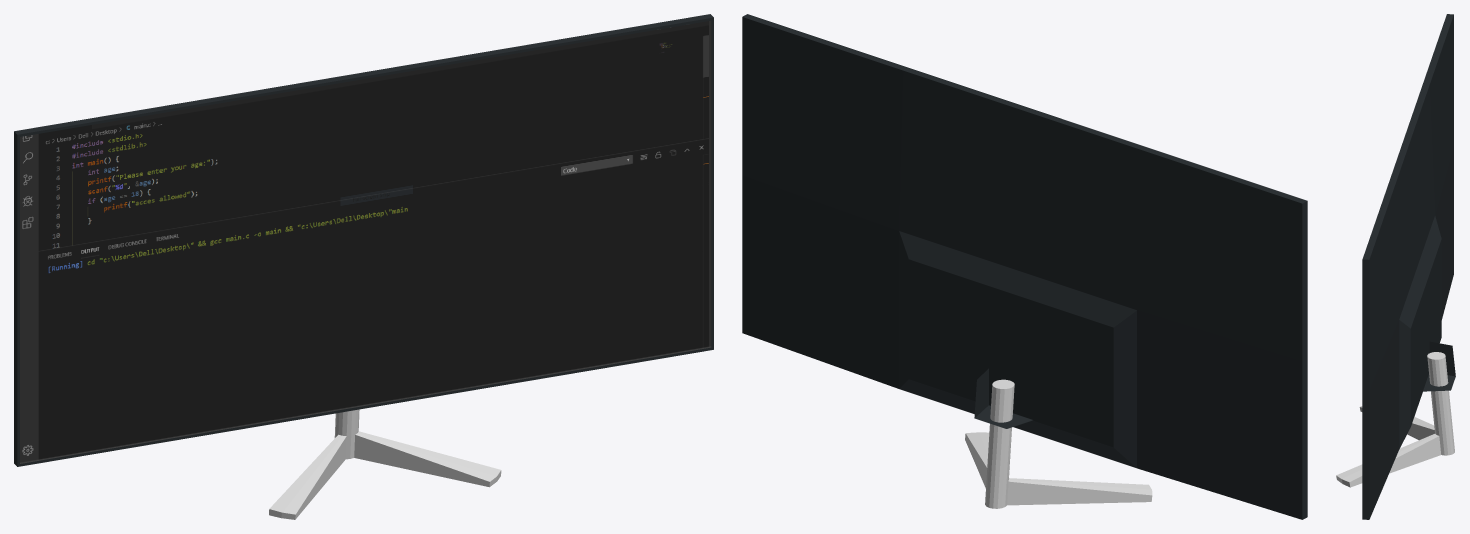
File: ConCom.glb
3 views of the same model, side by side, from view 1: azimuth 30°, elevation 25°; view 2: azimuth 150°, elevation 25°; view 3: azimuth 270°, elevation 25° (orthographic). The views are drawn at different scales.
Parts seen in each view (by area): view 1: Cube.061, Cylinder.055; view 2: Cube.061, Cylinder.055; view 3: Cube.061, Cylinder.055.
Part boxes in pixels (box(x1,y1,x2,y2)): Cube.061: box(14, 14, 713, 466); Cylinder.055: box(269, 409, 501, 519); Cube.061: box(742, 14, 1307, 519); Cylinder.055: box(965, 379, 1152, 508); Cube.061: box(1362, 14, 1455, 519); Cylinder.055: box(1336, 352, 1454, 487).
Size of the model in its own units: 1.01 by 0.5983 by 0.2078.
3 materials, 1 textured.
